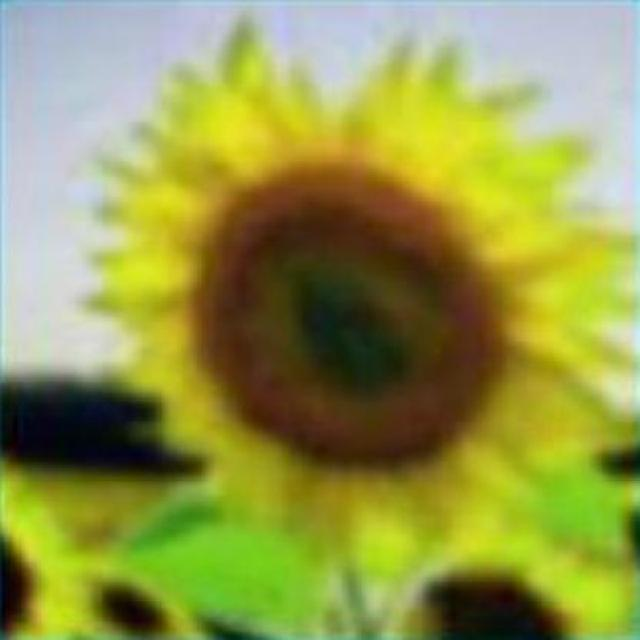sunflower: (88, 36, 626, 562)
